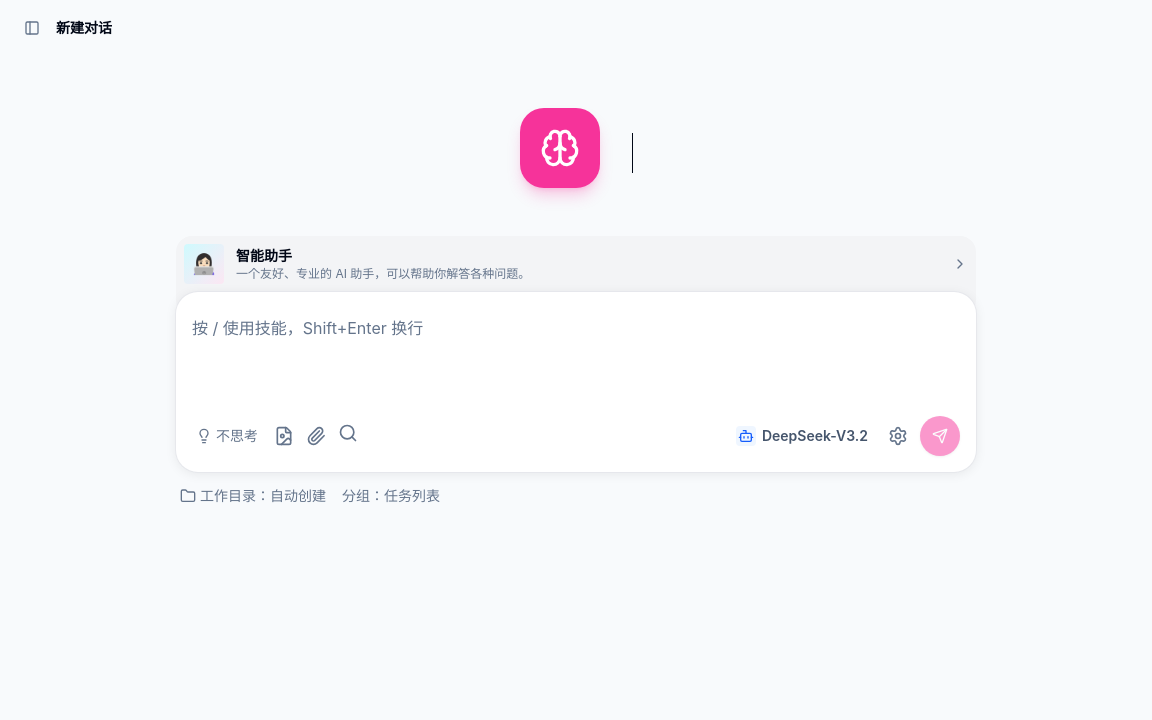
NewSessionPage › opens the group selector and updates the selected group
Click the button "分组：任务列表" at [391, 496], box [338,484,444,508]
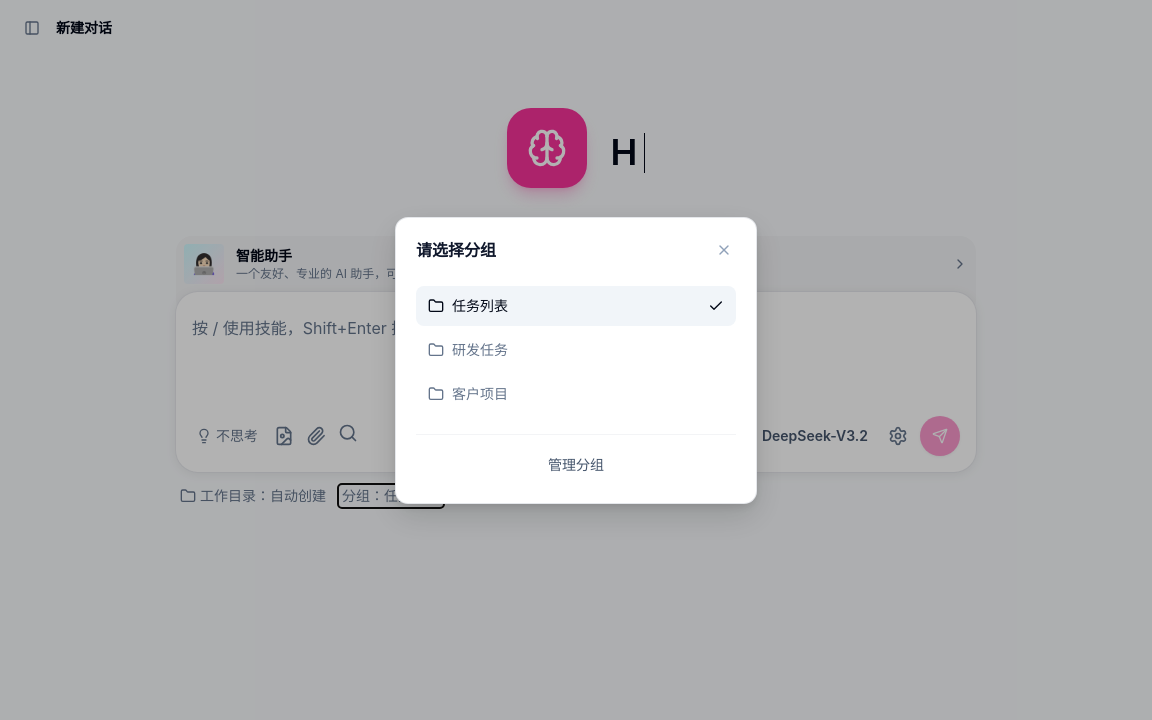
Result: the heading "请选择分组" is shown at [416,238,496,262]
Click the button named "关闭分组选择" at [724, 250], box [712,238,736,262]
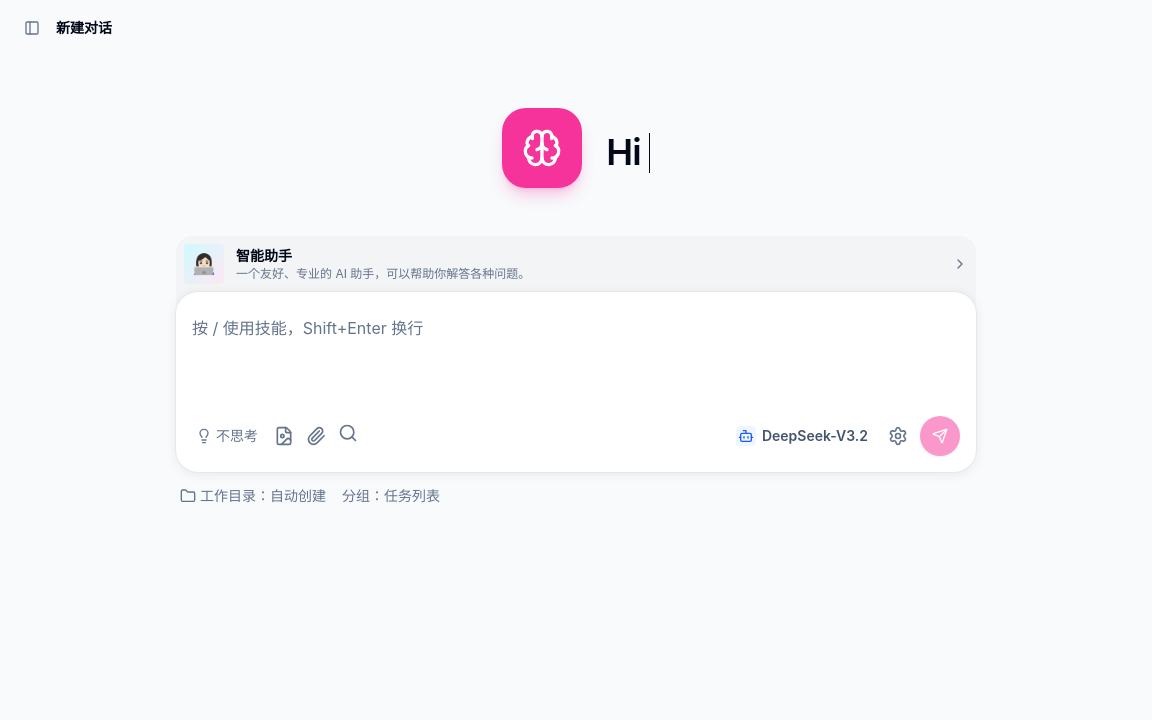
Result: the heading "请选择分组" is gone
Click the button "分组：任务列表" at [391, 496], box [338,484,444,508]
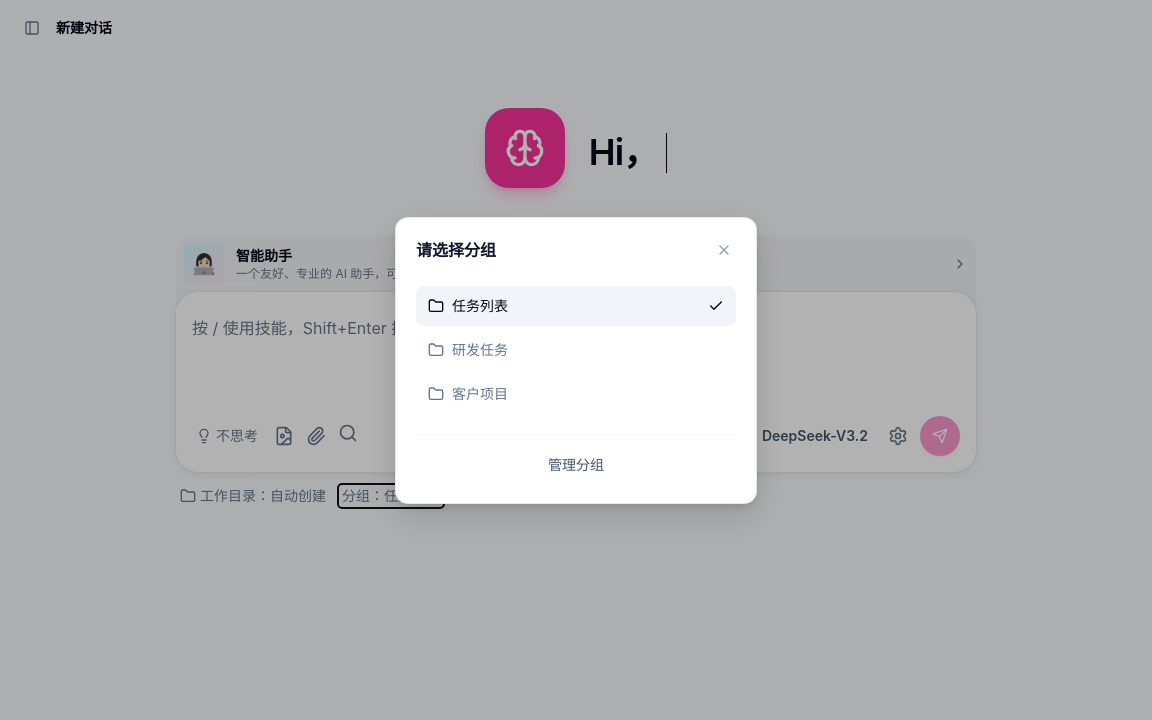
Result: the button "任务列表" is shown at [416,286,736,326]
Result: the button "研发任务" is shown at [416,330,736,370]
Result: the button "客户项目" is shown
Click the button "客户项目" at [480, 393], box [416,374,736,414]
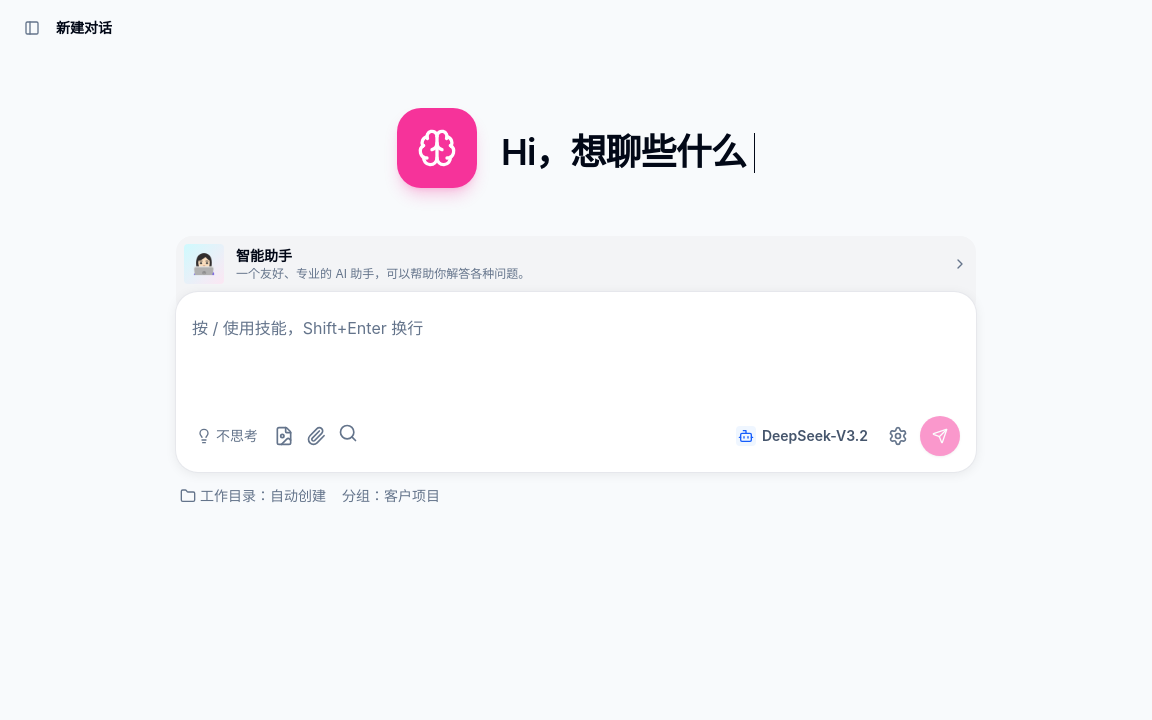
Result: the heading "请选择分组" is gone
Result: the button "分组：客户项目" is shown at [338,484,444,508]
